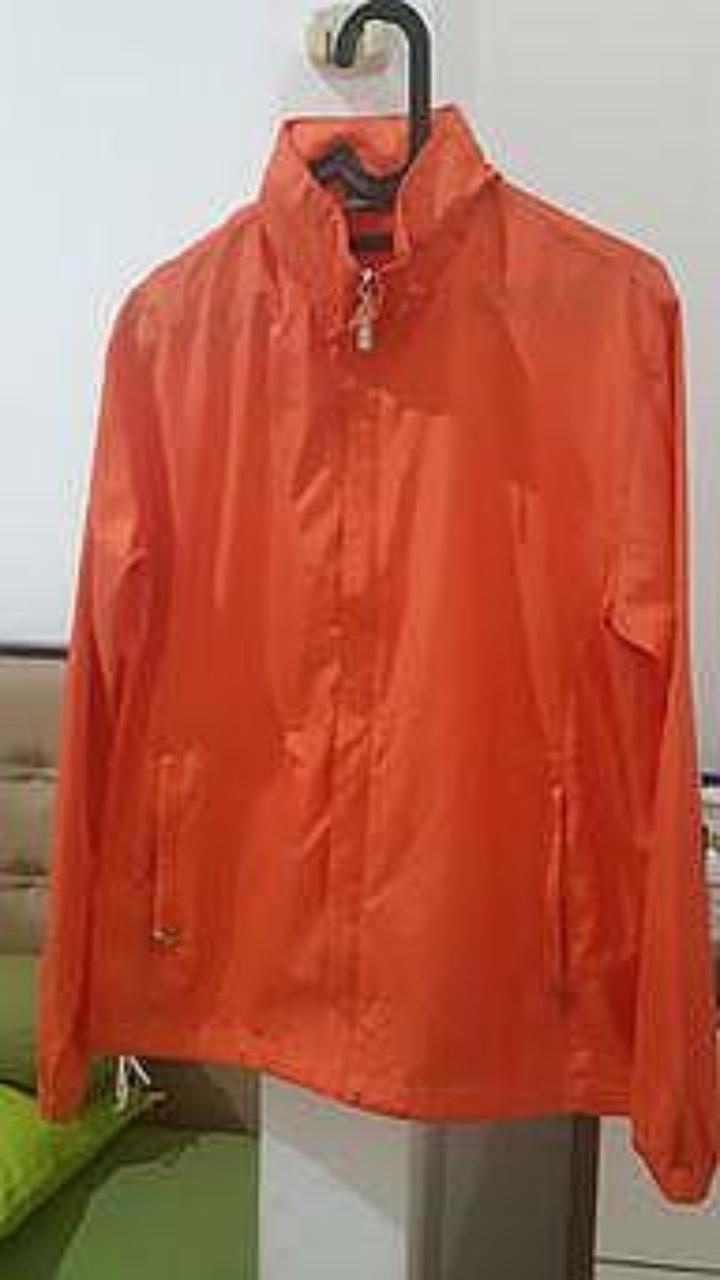Sports_Jacket: (38, 103, 718, 1200)
